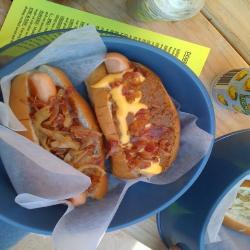hotdog: (14, 71, 108, 211), (88, 54, 185, 184)
